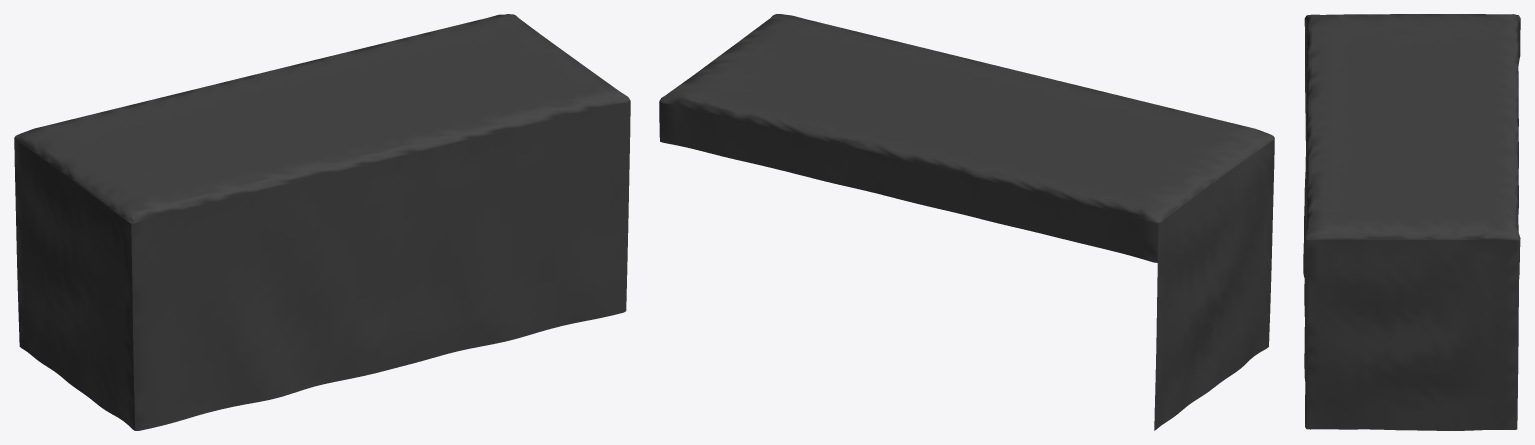
Rendered from fitted-6ft-3.glb.
3 views of the same model, side by side, from view 1: azimuth 30°, elevation 25°; view 2: azimuth 150°, elevation 25°; view 3: azimuth 270°, elevation 25° (orthographic). The views are drawn at different scales.
Parts seen in each view (by area): view 1: geometry_0; view 2: geometry_0; view 3: geometry_0.
Boxes of the visible parts, x1,y1,x2,y2 form: geometry_0: (14, 14, 630, 430); geometry_0: (659, 14, 1274, 430); geometry_0: (1303, 14, 1520, 430).
Bounding box in the file's own units: 1.85 × 0.7684 × 0.756.
1 material, 1 textured.
